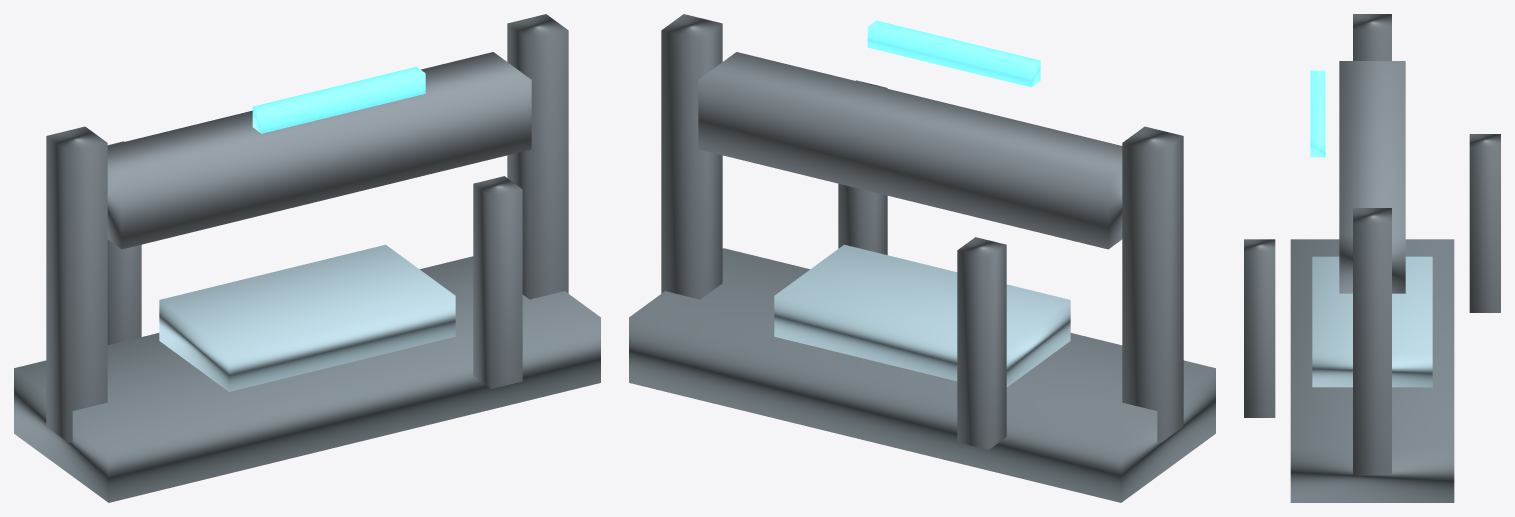
Rendered from ice-mine-coolant-manifold-lod1.glb.
3 views of the same model, side by side, from view 1: azimuth 30°, elevation 25°; view 2: azimuth 150°, elevation 25°; view 3: azimuth 270°, elevation 25° (orthographic). The views are drawn at different scales.
Parts seen in each view (by area): view 1: ice-mine-coolant-manifold-skid, ice-mine-coolant-manifold-spine, ice-mine-coolant-manifold-frost-sump, ice-mine-coolant-manifold-riser-a, ice-mine-coolant-manifold-riser-b, ice-mine-coolant-manifold-branch-right, ice-mine-coolant-manifold-status, ice-mine-coolant-manifold-branch-left; view 2: ice-mine-coolant-manifold-skid, ice-mine-coolant-manifold-spine, ice-mine-coolant-manifold-frost-sump, ice-mine-coolant-manifold-riser-a, ice-mine-coolant-manifold-riser-b, ice-mine-coolant-manifold-branch-left, ice-mine-coolant-manifold-status, ice-mine-coolant-manifold-branch-right; view 3: ice-mine-coolant-manifold-skid, ice-mine-coolant-manifold-spine, ice-mine-coolant-manifold-riser-b, ice-mine-coolant-manifold-frost-sump, ice-mine-coolant-manifold-branch-left, ice-mine-coolant-manifold-branch-right, ice-mine-coolant-manifold-riser-a, ice-mine-coolant-manifold-status.
Part boxes in pixels (left/top/right/bottom): ice-mine-coolant-manifold-skid: left=14, top=256, right=600, bottom=502; ice-mine-coolant-manifold-spine: left=107, top=52, right=531, bottom=249; ice-mine-coolant-manifold-frost-sump: left=159, top=244, right=455, bottom=391; ice-mine-coolant-manifold-riser-a: left=46, top=126, right=107, bottom=442; ice-mine-coolant-manifold-riser-b: left=507, top=14, right=568, bottom=299; ice-mine-coolant-manifold-branch-right: left=473, top=176, right=522, bottom=388; ice-mine-coolant-manifold-status: left=252, top=66, right=425, bottom=133; ice-mine-coolant-manifold-branch-left: left=107, top=141, right=141, bottom=345; ice-mine-coolant-manifold-skid: left=629, top=248, right=1215, bottom=502; ice-mine-coolant-manifold-spine: left=698, top=52, right=1122, bottom=249; ice-mine-coolant-manifold-frost-sump: left=774, top=244, right=1070, bottom=387; ice-mine-coolant-manifold-riser-a: left=1122, top=126, right=1183, bottom=442; ice-mine-coolant-manifold-riser-b: left=661, top=14, right=722, bottom=299; ice-mine-coolant-manifold-branch-left: left=957, top=237, right=1006, bottom=449; ice-mine-coolant-manifold-status: left=867, top=20, right=1040, bottom=87; ice-mine-coolant-manifold-branch-right: left=838, top=80, right=887, bottom=254; ice-mine-coolant-manifold-skid: left=1290, top=239, right=1454, bottom=502; ice-mine-coolant-manifold-spine: left=1339, top=61, right=1405, bottom=293; ice-mine-coolant-manifold-riser-b: left=1353, top=208, right=1391, bottom=474; ice-mine-coolant-manifold-frost-sump: left=1312, top=256, right=1432, bottom=387; ice-mine-coolant-manifold-branch-left: left=1469, top=134, right=1500, bottom=312; ice-mine-coolant-manifold-branch-right: left=1244, top=239, right=1275, bottom=417; ice-mine-coolant-manifold-riser-a: left=1353, top=14, right=1391, bottom=60; ice-mine-coolant-manifold-status: left=1310, top=70, right=1325, bottom=157.
Bounding box in the file's own units: 2.56 × 1.67 × 1.32.
